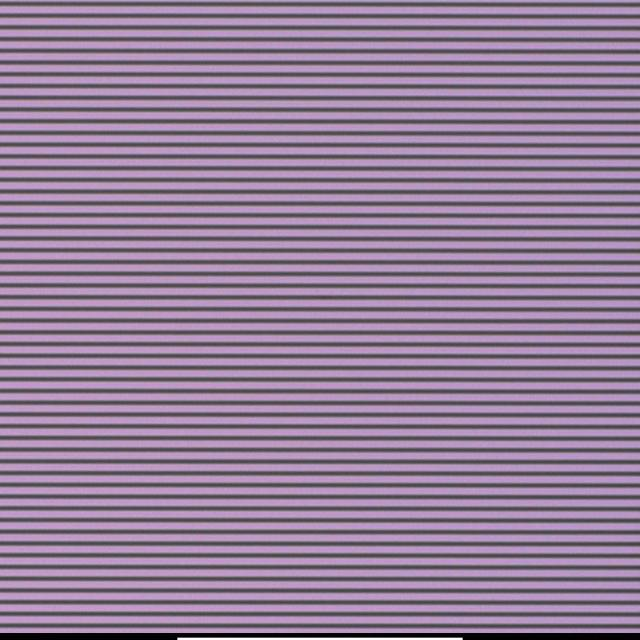03_intrusion: (311, 285, 319, 296)
